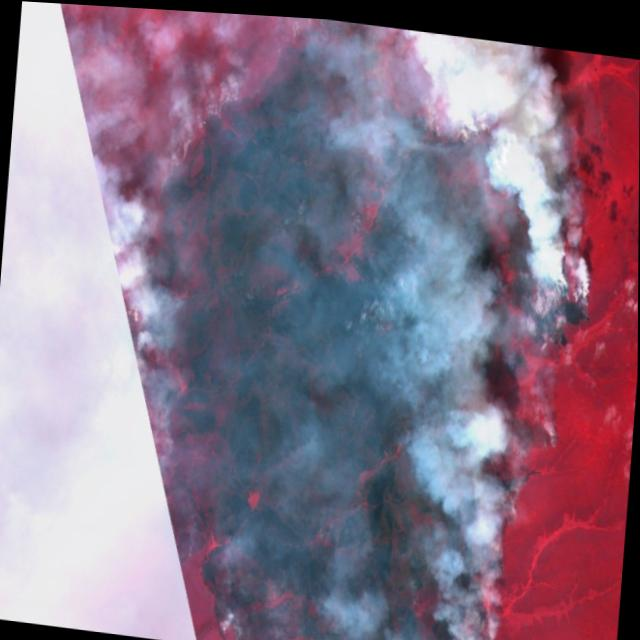fire: (101, 5, 624, 640)
